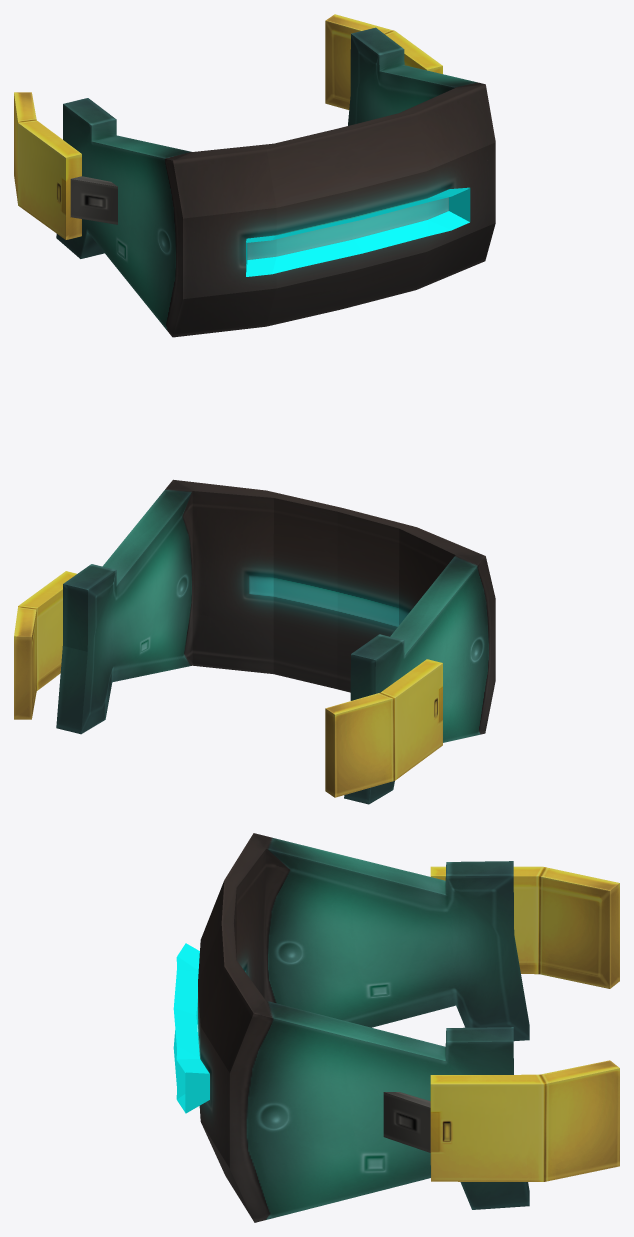
3 renders of one model, top to bottom at view 1: azimuth 30°, elevation 25°; view 2: azimuth 150°, elevation 25°; view 3: azimuth 270°, elevation 25°, orthographic. The views are drawn at different scales.
Visible parts, largest first — view 1: 3_A_29; view 2: 3_A_29; view 3: 3_A_29.
Boxes of the visible parts, left/top/right/bottom form: 3_A_29: left=14, top=14, right=495, bottom=337; 3_A_29: left=14, top=479, right=495, bottom=804; 3_A_29: left=173, top=833, right=619, bottom=1222.
Bounding box in the file's own units: 45.42 × 53.19 × 20.29.
